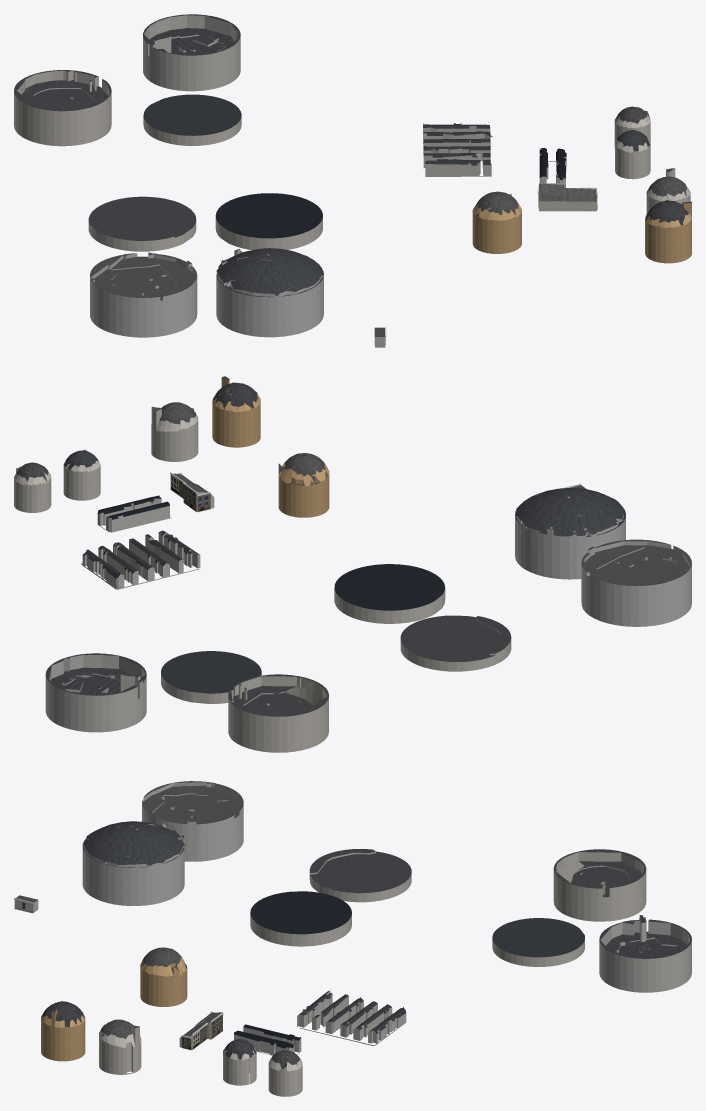
3 views of the same model, one above another, from view 1: azimuth 30°, elevation 25°; view 2: azimuth 150°, elevation 25°; view 3: azimuth 270°, elevation 25° (orthographic). The views are drawn at different scales.
Visible parts, largest first — view 1: bldg_6000064332, bldg_6000064302, bldg_6000064315, bldg_6000064318, bldg_6000064315_roof, bldg_6000064321_roof, bldg_6000064314_roof, bldg_6000064302_roof, bldg_6000064325_roof, bldg_6000064341, bldg_6000064318_roof, bldg_6000064346 (+15 smaller); view 2: bldg_6000064332, bldg_6000064302, bldg_6000064318, bldg_6000064315_roof, bldg_6000064314_roof, bldg_6000064321_roof, bldg_6000064315, bldg_6000064302_roof, bldg_6000064325_roof, bldg_6000064341, bldg_6000064338, bldg_6000064346 (+14 smaller); view 3: bldg_6000064332, bldg_6000064318, bldg_6000064315, bldg_6000064315_roof, bldg_6000064314_roof, bldg_6000064321_roof, bldg_6000064302, bldg_6000064302_roof, bldg_6000064325_roof, bldg_6000064341, bldg_6000064338, bldg_6000064318_roof (+13 smaller).
Boxes of the visible parts, x1=… form: bldg_6000064332: x1=143, y1=15, x2=240, y2=91; bldg_6000064302: x1=90, y1=253, x2=197, y2=337; bldg_6000064315: x1=216, y1=249, x2=323, y2=337; bldg_6000064318: x1=14, y1=70, x2=111, y2=146; bldg_6000064315_roof: x1=216, y1=248, x2=323, y2=297; bldg_6000064321_roof: x1=215, y1=193, x2=322, y2=238; bldg_6000064314_roof: x1=88, y1=196, x2=196, y2=240; bldg_6000064302_roof: x1=90, y1=252, x2=197, y2=300; bldg_6000064325_roof: x1=143, y1=94, x2=241, y2=135; bldg_6000064341: x1=423, y1=123, x2=493, y2=176; bldg_6000064318_roof: x1=14, y1=70, x2=111, y2=111; bldg_6000064346: x1=645, y1=200, x2=691, y2=263; bldg_6000064332: x1=45, y1=655, x2=146, y2=732; bldg_6000064302: x1=581, y1=541, x2=691, y2=626; bldg_6000064318: x1=228, y1=676, x2=328, y2=752; bldg_6000064315_roof: x1=515, y1=487, x2=625, y2=537; bldg_6000064314_roof: x1=400, y1=615, x2=511, y2=661; bldg_6000064321_roof: x1=334, y1=564, x2=444, y2=610; bldg_6000064315: x1=515, y1=493, x2=625, y2=579; bldg_6000064302_roof: x1=581, y1=539, x2=691, y2=585; bldg_6000064325_roof: x1=161, y1=651, x2=261, y2=693; bldg_6000064341: x1=81, y1=532, x2=200, y2=589; bldg_6000064338: x1=278, y1=462, x2=329, y2=517; bldg_6000064346: x1=212, y1=377, x2=260, y2=447; bldg_6000064332: x1=599, y1=915, x2=691, y2=992; bldg_6000064318: x1=553, y1=852, x2=646, y2=921; bldg_6000064315: x1=82, y1=823, x2=184, y2=905; bldg_6000064315_roof: x1=82, y1=821, x2=184, y2=867; bldg_6000064314_roof: x1=310, y1=849, x2=411, y2=893; bldg_6000064321_roof: x1=250, y1=891, x2=351, y2=934; bldg_6000064302: x1=142, y1=782, x2=243, y2=861; bldg_6000064302_roof: x1=142, y1=781, x2=243, y2=824; bldg_6000064325_roof: x1=492, y1=918, x2=584, y2=957; bldg_6000064341: x1=297, y1=991, x2=406, y2=1045; bldg_6000064338: x1=140, y1=957, x2=187, y2=1006; bldg_6000064318_roof: x1=553, y1=849, x2=646, y2=897.
Bounding box in the file's own units: 224 × 21.23 × 230.
20 materials, 15 textured.
